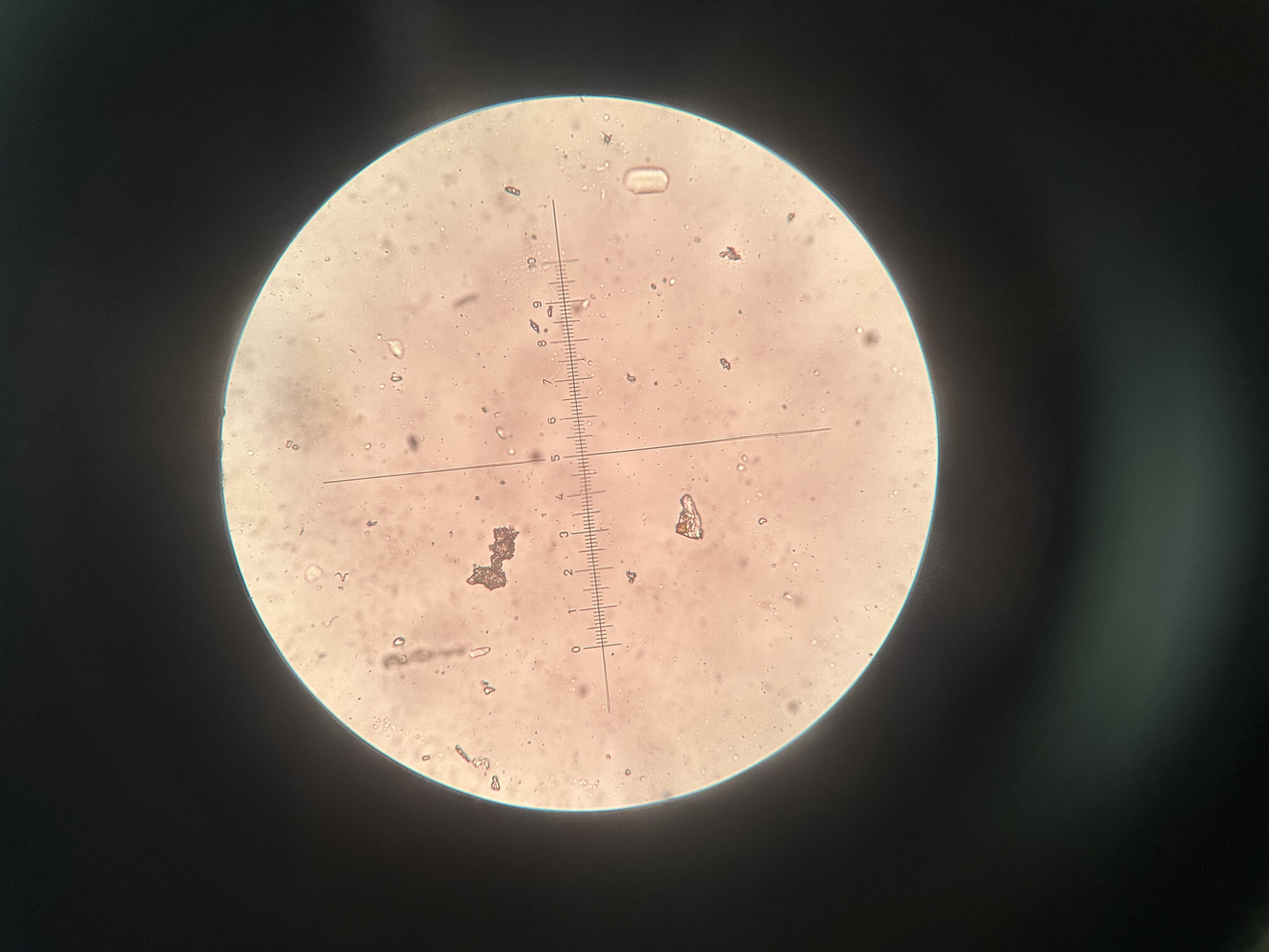not_microplastic: (468, 524, 519, 591), (667, 491, 708, 542), (381, 647, 470, 665), (624, 166, 675, 196), (382, 338, 407, 364), (301, 564, 327, 585), (714, 247, 743, 260), (479, 679, 496, 697), (505, 182, 524, 198), (784, 209, 803, 224), (469, 649, 492, 661), (717, 357, 737, 370), (391, 368, 404, 387), (532, 450, 548, 465), (458, 745, 472, 762), (625, 369, 642, 383), (624, 571, 641, 585), (487, 775, 502, 789), (527, 321, 541, 336), (368, 517, 382, 528), (477, 756, 489, 767), (396, 634, 404, 647)
